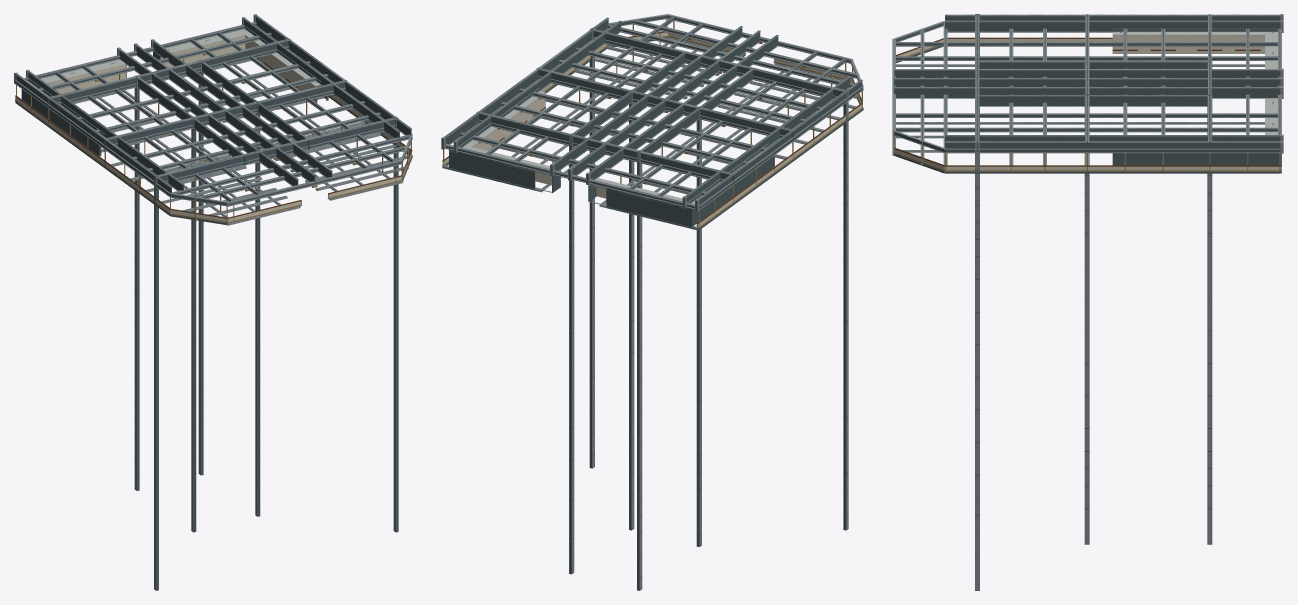
File: AST-CMD-005.glb
3 renders of one model, left to right at view 1: azimuth 30°, elevation 25°; view 2: azimuth 150°, elevation 25°; view 3: azimuth 270°, elevation 25°, orthographic. The views are drawn at different scales.
Parts seen in each view (by area): view 1: no part large enough to name; view 2: ACP_CELL_X2_Y13_Z12_ASTRAEA_staff_bluegrey_paint, ACP_CELL_X-3_Y13_Z12_ASTRAEA_staff_bluegrey_paint, ACP_CELL_X3_Y13_Z12_ASTRAEA_staff_bluegrey_paint, ACP_CELL_X-4_Y13_Z12_ASTRAEA_staff_bluegrey_paint; view 3: ACP_CELL_X4_Y13_Z15_ASTRAEA_staff_bluegrey_paint, ACP_CELL_X4_Y13_Z14_ASTRAEA_staff_bluegrey_paint, ACP_CELL_X4_Y13_Z13_ASTRAEA_staff_bluegrey_paint, ACP_CELL_X4_Y13_Z16_ASTRAEA_staff_bluegrey_paint, ACP_CELL_X0_Y14_Z13_ASTRAEA_staff_bluegrey_paint, ACP_CELL_X0_Y14_Z23_ASTRAEA_staff_bluegrey_paint, ACP_CELL_X0_Y14_Z19_ASTRAEA_staff_bluegrey_paint, ACP_CELL_X0_Y14_Z20_ASTRAEA_staff_bluegrey_paint, ACP_CELL_X0_Y14_Z15_ASTRAEA_staff_bluegrey_paint, ACP_CELL_X0_Y14_Z22_ASTRAEA_staff_bluegrey_paint, ACP_CELL_X4_Y13_Z17_ASTRAEA_staff_bluegrey_paint, ACP_CELL_X0_Y14_Z17_ASTRAEA_staff_bluegrey_paint (+4 smaller).
Boxes of the visible parts, x1,y1,x2,y2 form: ACP_CELL_X2_Y13_Z12_ASTRAEA_staff_bluegrey_paint: [484, 153, 513, 184]; ACP_CELL_X-3_Y13_Z12_ASTRAEA_staff_bluegrey_paint: [627, 188, 656, 218]; ACP_CELL_X3_Y13_Z12_ASTRAEA_staff_bluegrey_paint: [455, 146, 488, 178]; ACP_CELL_X-4_Y13_Z12_ASTRAEA_staff_bluegrey_paint: [652, 195, 684, 225]; ACP_CELL_X4_Y13_Z15_ASTRAEA_staff_bluegrey_paint: [1158, 149, 1219, 173]; ACP_CELL_X4_Y13_Z14_ASTRAEA_staff_bluegrey_paint: [1205, 149, 1250, 173]; ACP_CELL_X4_Y13_Z13_ASTRAEA_staff_bluegrey_paint: [1239, 149, 1280, 173]; ACP_CELL_X4_Y13_Z16_ASTRAEA_staff_bluegrey_paint: [1128, 149, 1171, 173]; ACP_CELL_X0_Y14_Z13_ASTRAEA_staff_bluegrey_paint: [1239, 78, 1273, 99]; ACP_CELL_X0_Y14_Z23_ASTRAEA_staff_bluegrey_paint: [901, 78, 935, 99]; ACP_CELL_X0_Y14_Z19_ASTRAEA_staff_bluegrey_paint: [1036, 78, 1070, 94]; ACP_CELL_X0_Y14_Z20_ASTRAEA_staff_bluegrey_paint: [1002, 78, 1036, 94]; ACP_CELL_X0_Y14_Z15_ASTRAEA_staff_bluegrey_paint: [1171, 78, 1205, 94]; ACP_CELL_X0_Y14_Z22_ASTRAEA_staff_bluegrey_paint: [935, 78, 968, 99]; ACP_CELL_X4_Y13_Z17_ASTRAEA_staff_bluegrey_paint: [1097, 149, 1137, 173]; ACP_CELL_X0_Y14_Z17_ASTRAEA_staff_bluegrey_paint: [1104, 78, 1137, 94].
Size of the model in its own units: 71.95 by 117 by 92.66.
Materials: 8 (8 with a texture image).
